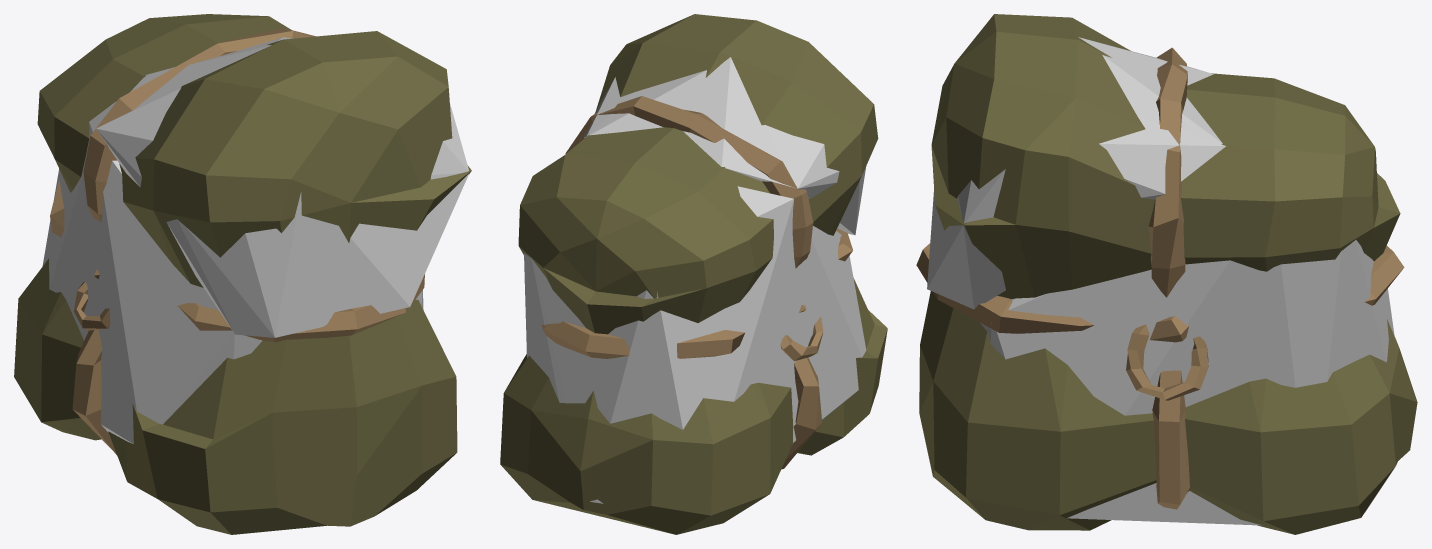
Rendered from SM_Prop_Bundle_05.fbx.
3 views of the same model, side by side, from view 1: azimuth 30°, elevation 25°; view 2: azimuth 150°, elevation 25°; view 3: azimuth 270°, elevation 25° (orthographic). The views are drawn at different scales.
Parts seen in each view (by area): view 1: SM_Prop_Bundle_05, SM_Prop_Bundle_05_ConvexHulls; view 2: SM_Prop_Bundle_05, SM_Prop_Bundle_05_ConvexHulls; view 3: SM_Prop_Bundle_05, SM_Prop_Bundle_05_ConvexHulls.
Part boxes in pixels (<box>): SM_Prop_Bundle_05: <box>14,14,471,534</box>; SM_Prop_Bundle_05_ConvexHulls: <box>42,37,469,444</box>; SM_Prop_Bundle_05: <box>500,14,887,534</box>; SM_Prop_Bundle_05_ConvexHulls: <box>524,57,866,503</box>; SM_Prop_Bundle_05: <box>916,14,1417,534</box>; SM_Prop_Bundle_05_ConvexHulls: <box>927,37,1394,525</box>.
Bounding box in the file's own units: 86.52 × 122 × 122.
Materials: 2 (1 with a texture image).
